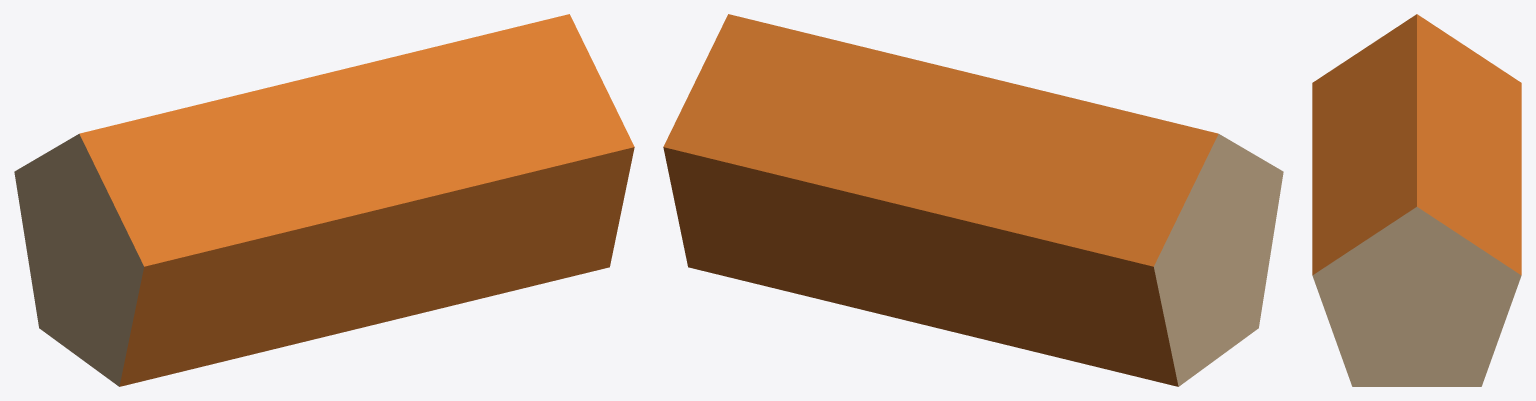
Rendered from ProductWood.fbx.
The picture shows the model from 3 angles, left to right: view 1: azimuth 30°, elevation 25°; view 2: azimuth 150°, elevation 25°; view 3: azimuth 270°, elevation 25°; orthographic projection. The views are drawn at different scales.
Parts seen in each view (by area): view 1: ProductWood; view 2: ProductWood; view 3: ProductWood.
Part boxes in pixels (x1=…): ProductWood: x1=14, y1=14, x2=634, y2=386; ProductWood: x1=663, y1=14, x2=1283, y2=386; ProductWood: x1=1312, y1=14, x2=1521, y2=386.
Size of the model in its own units: 0.4675 by 0.204 by 0.2145.
